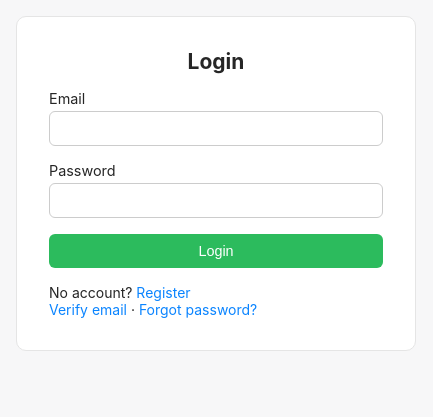
Test: LoginPage › shows the server message and stays put on bad credentials
The width and height of the screenshot is (433, 417).
Step 1. Type "student@uni.edu" into the field labelled "Email" → (216, 128), box [49,111,383,146]
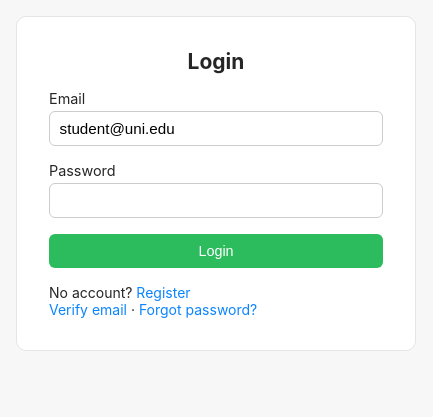
Step 2. Type "wrong-password" into the password field labelled "Password" → (216, 200), box [49,183,383,218]
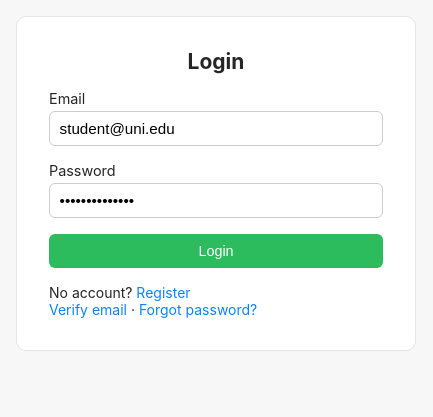
Step 3. Click the button "Login" → (216, 251), box [49,234,383,268]
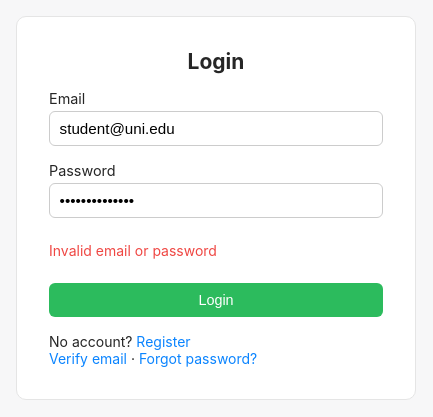
Check: the text "Invalid email or password" is shown, box [49,242,217,259]
